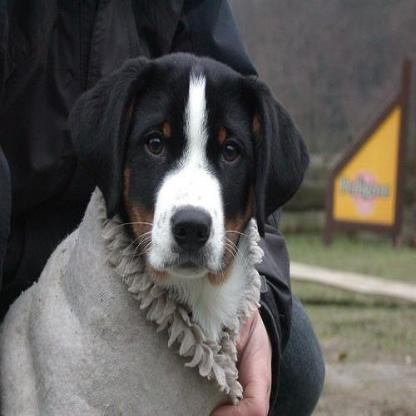Appenzeller: (0, 49, 309, 414)
